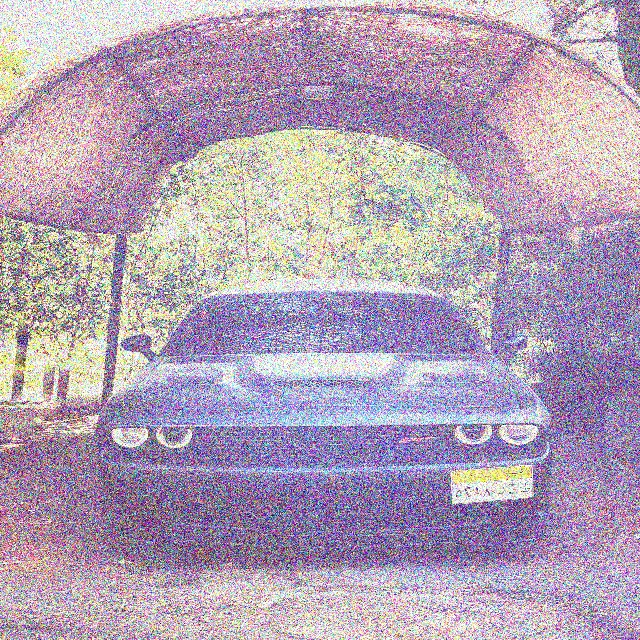License Plate: (448, 464, 536, 506)
